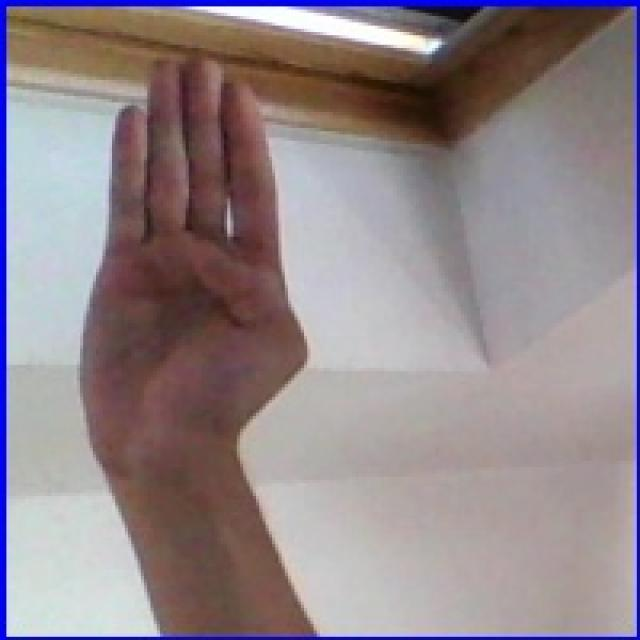Letra B: (47, 41, 333, 494)
